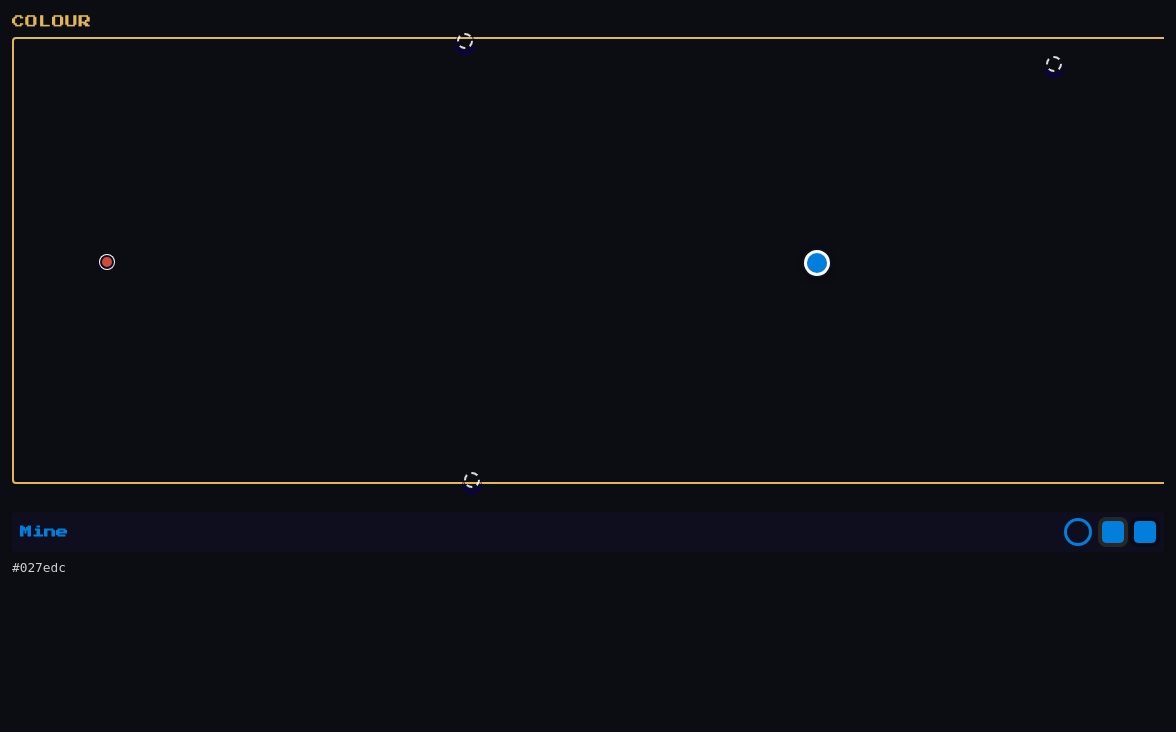
Test: ColorPicker › stops a drag at the edge of another player's zone and says whose it is
Press the mouse on the element with test id "color-picker-window": x=588, y=261 [12,37,1164,484]
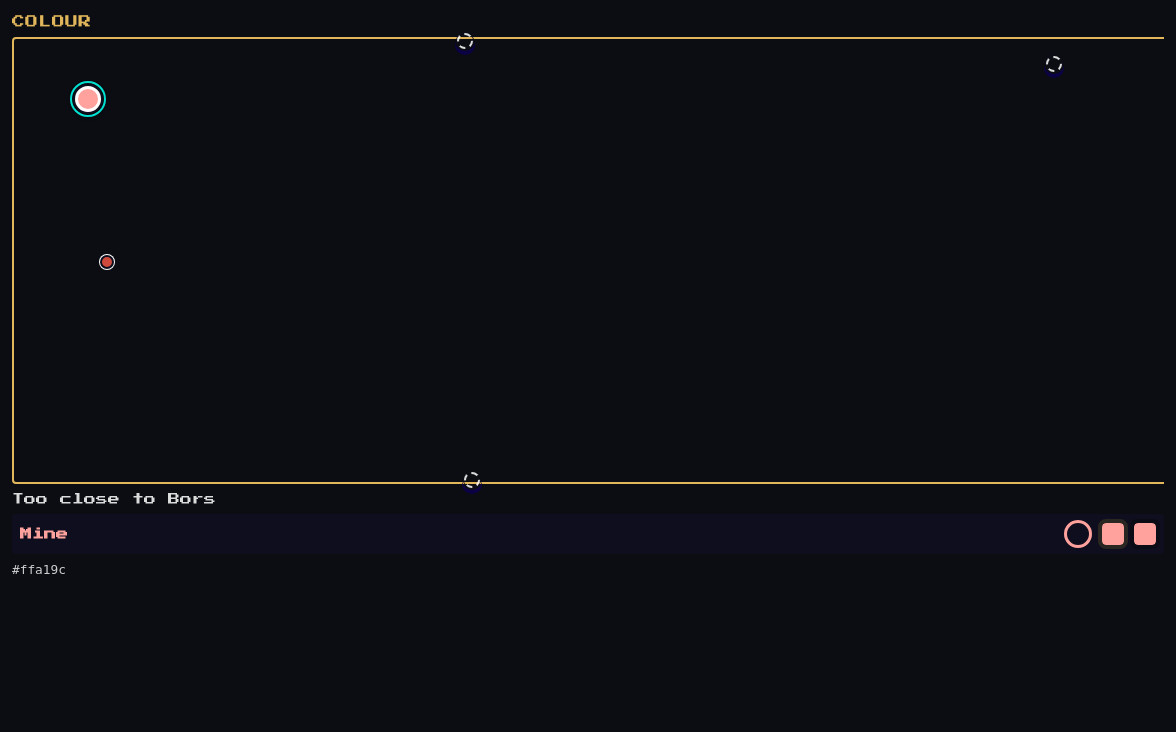
Expected: the text "Too close to Bors" is shown, [12,493,216,505]
